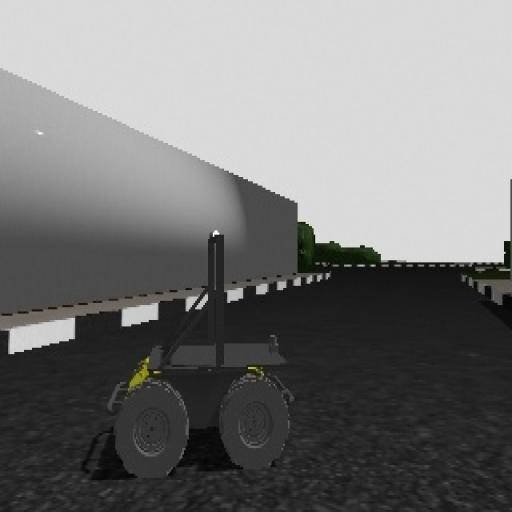huskya200: (90, 224, 321, 484)
